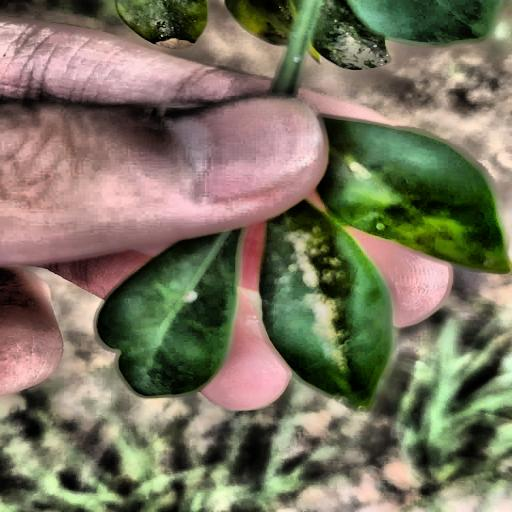la dom: (219, 161, 434, 390)
